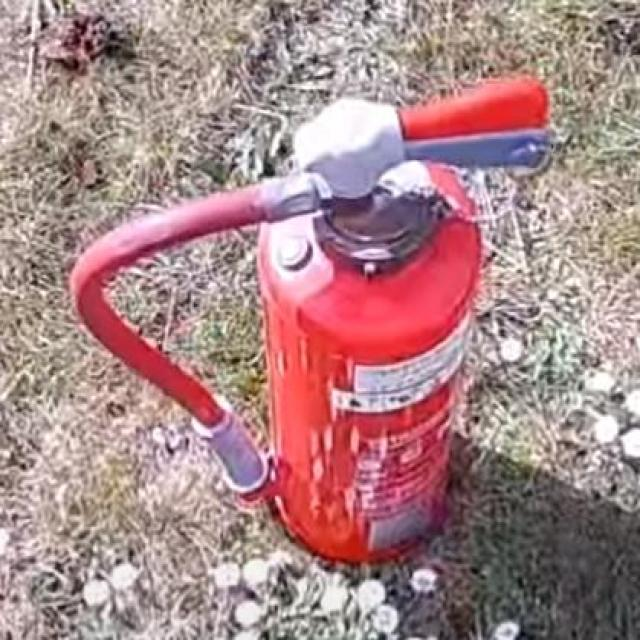fire_extinguisher: (62, 63, 560, 572)
